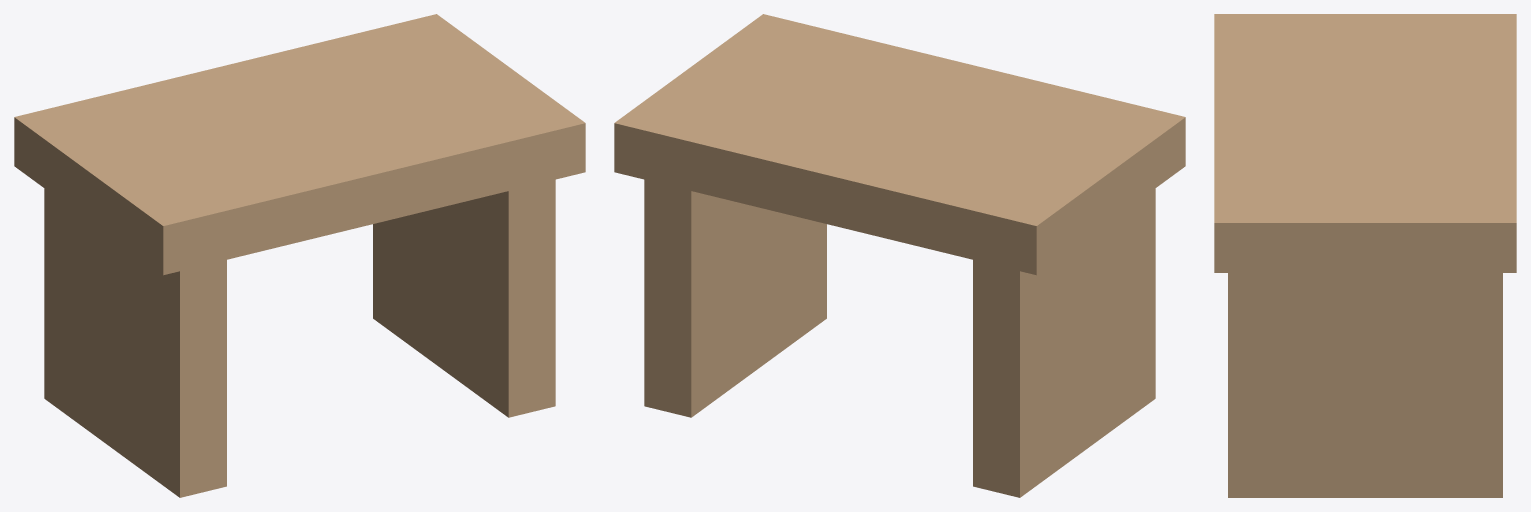
The model's file is prop-tub-stool.fbx.
The picture shows the model from 3 angles, left to right: view 1: azimuth 30°, elevation 25°; view 2: azimuth 150°, elevation 25°; view 3: azimuth 270°, elevation 25°; orthographic projection.
Visible parts, largest first — view 1: prop-tub-stool; view 2: prop-tub-stool; view 3: prop-tub-stool.
Part boxes in pixels (x1,y1,x2,y2): prop-tub-stool: (14, 14, 585, 497); prop-tub-stool: (614, 14, 1185, 497); prop-tub-stool: (1214, 14, 1516, 497).
Size of the model in its own units: 36 by 23 by 22.
